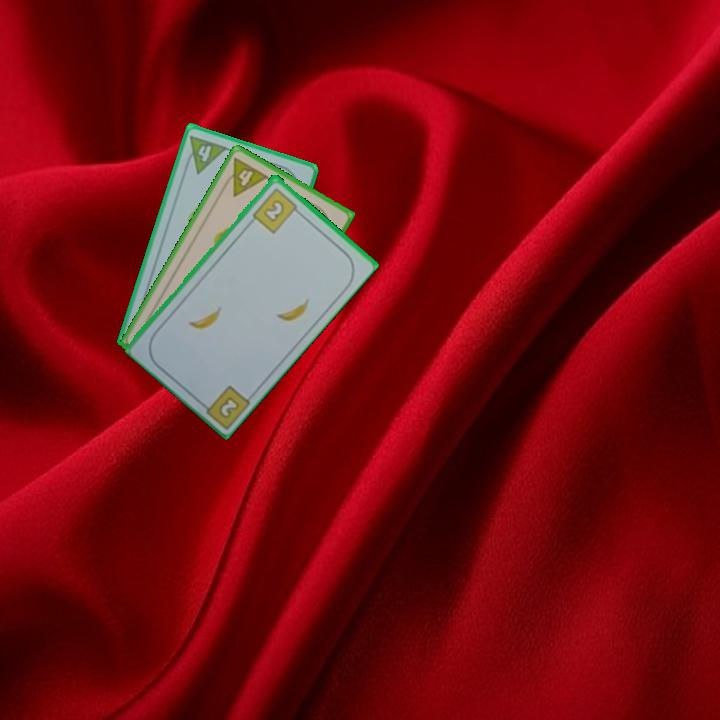2b: (195, 381, 253, 430), (249, 184, 303, 236)
4p: (218, 154, 271, 199), (180, 132, 230, 176)
